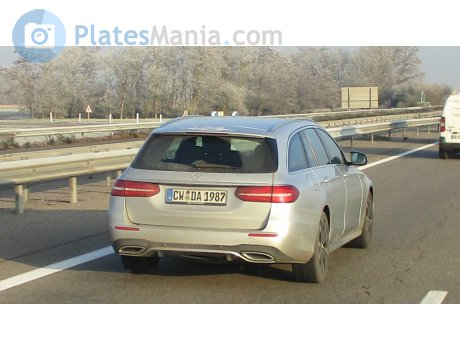License Plates: (170, 188, 230, 200)
